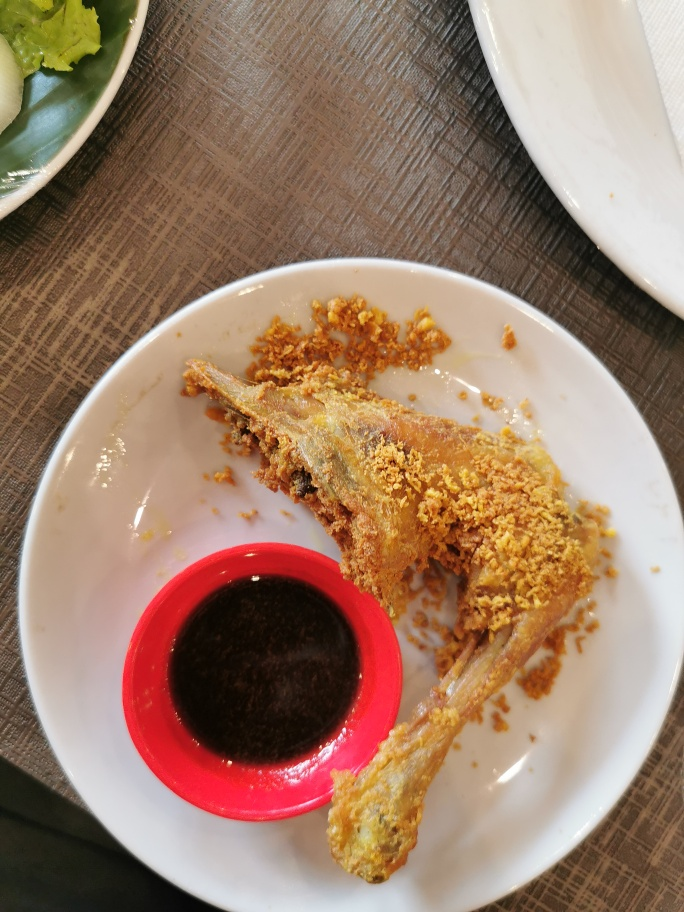ayam goreng: (176, 354, 602, 884)
kecap: (116, 540, 400, 816)
